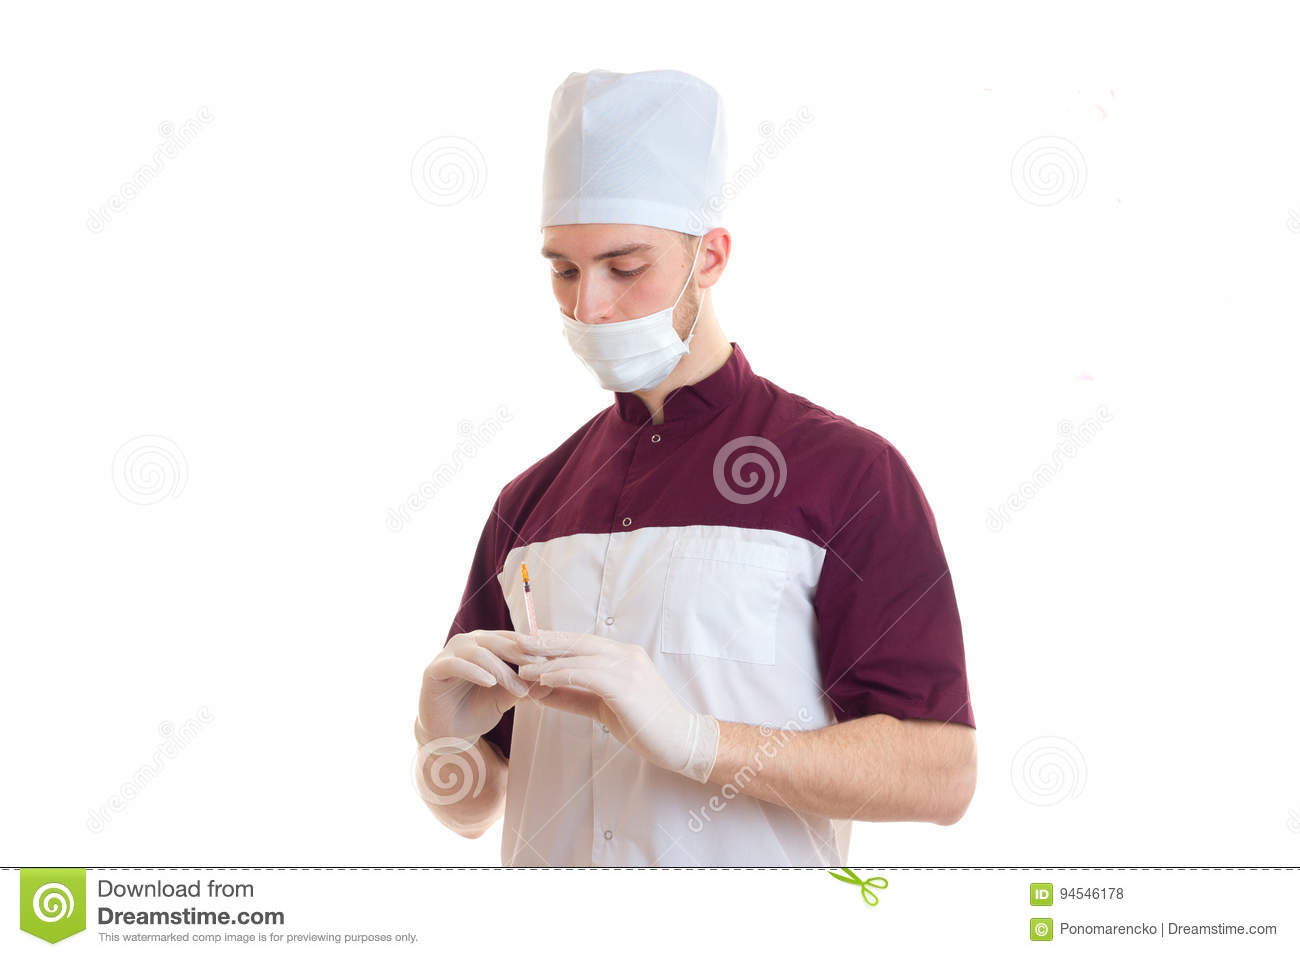mask: (553, 305, 691, 401)
